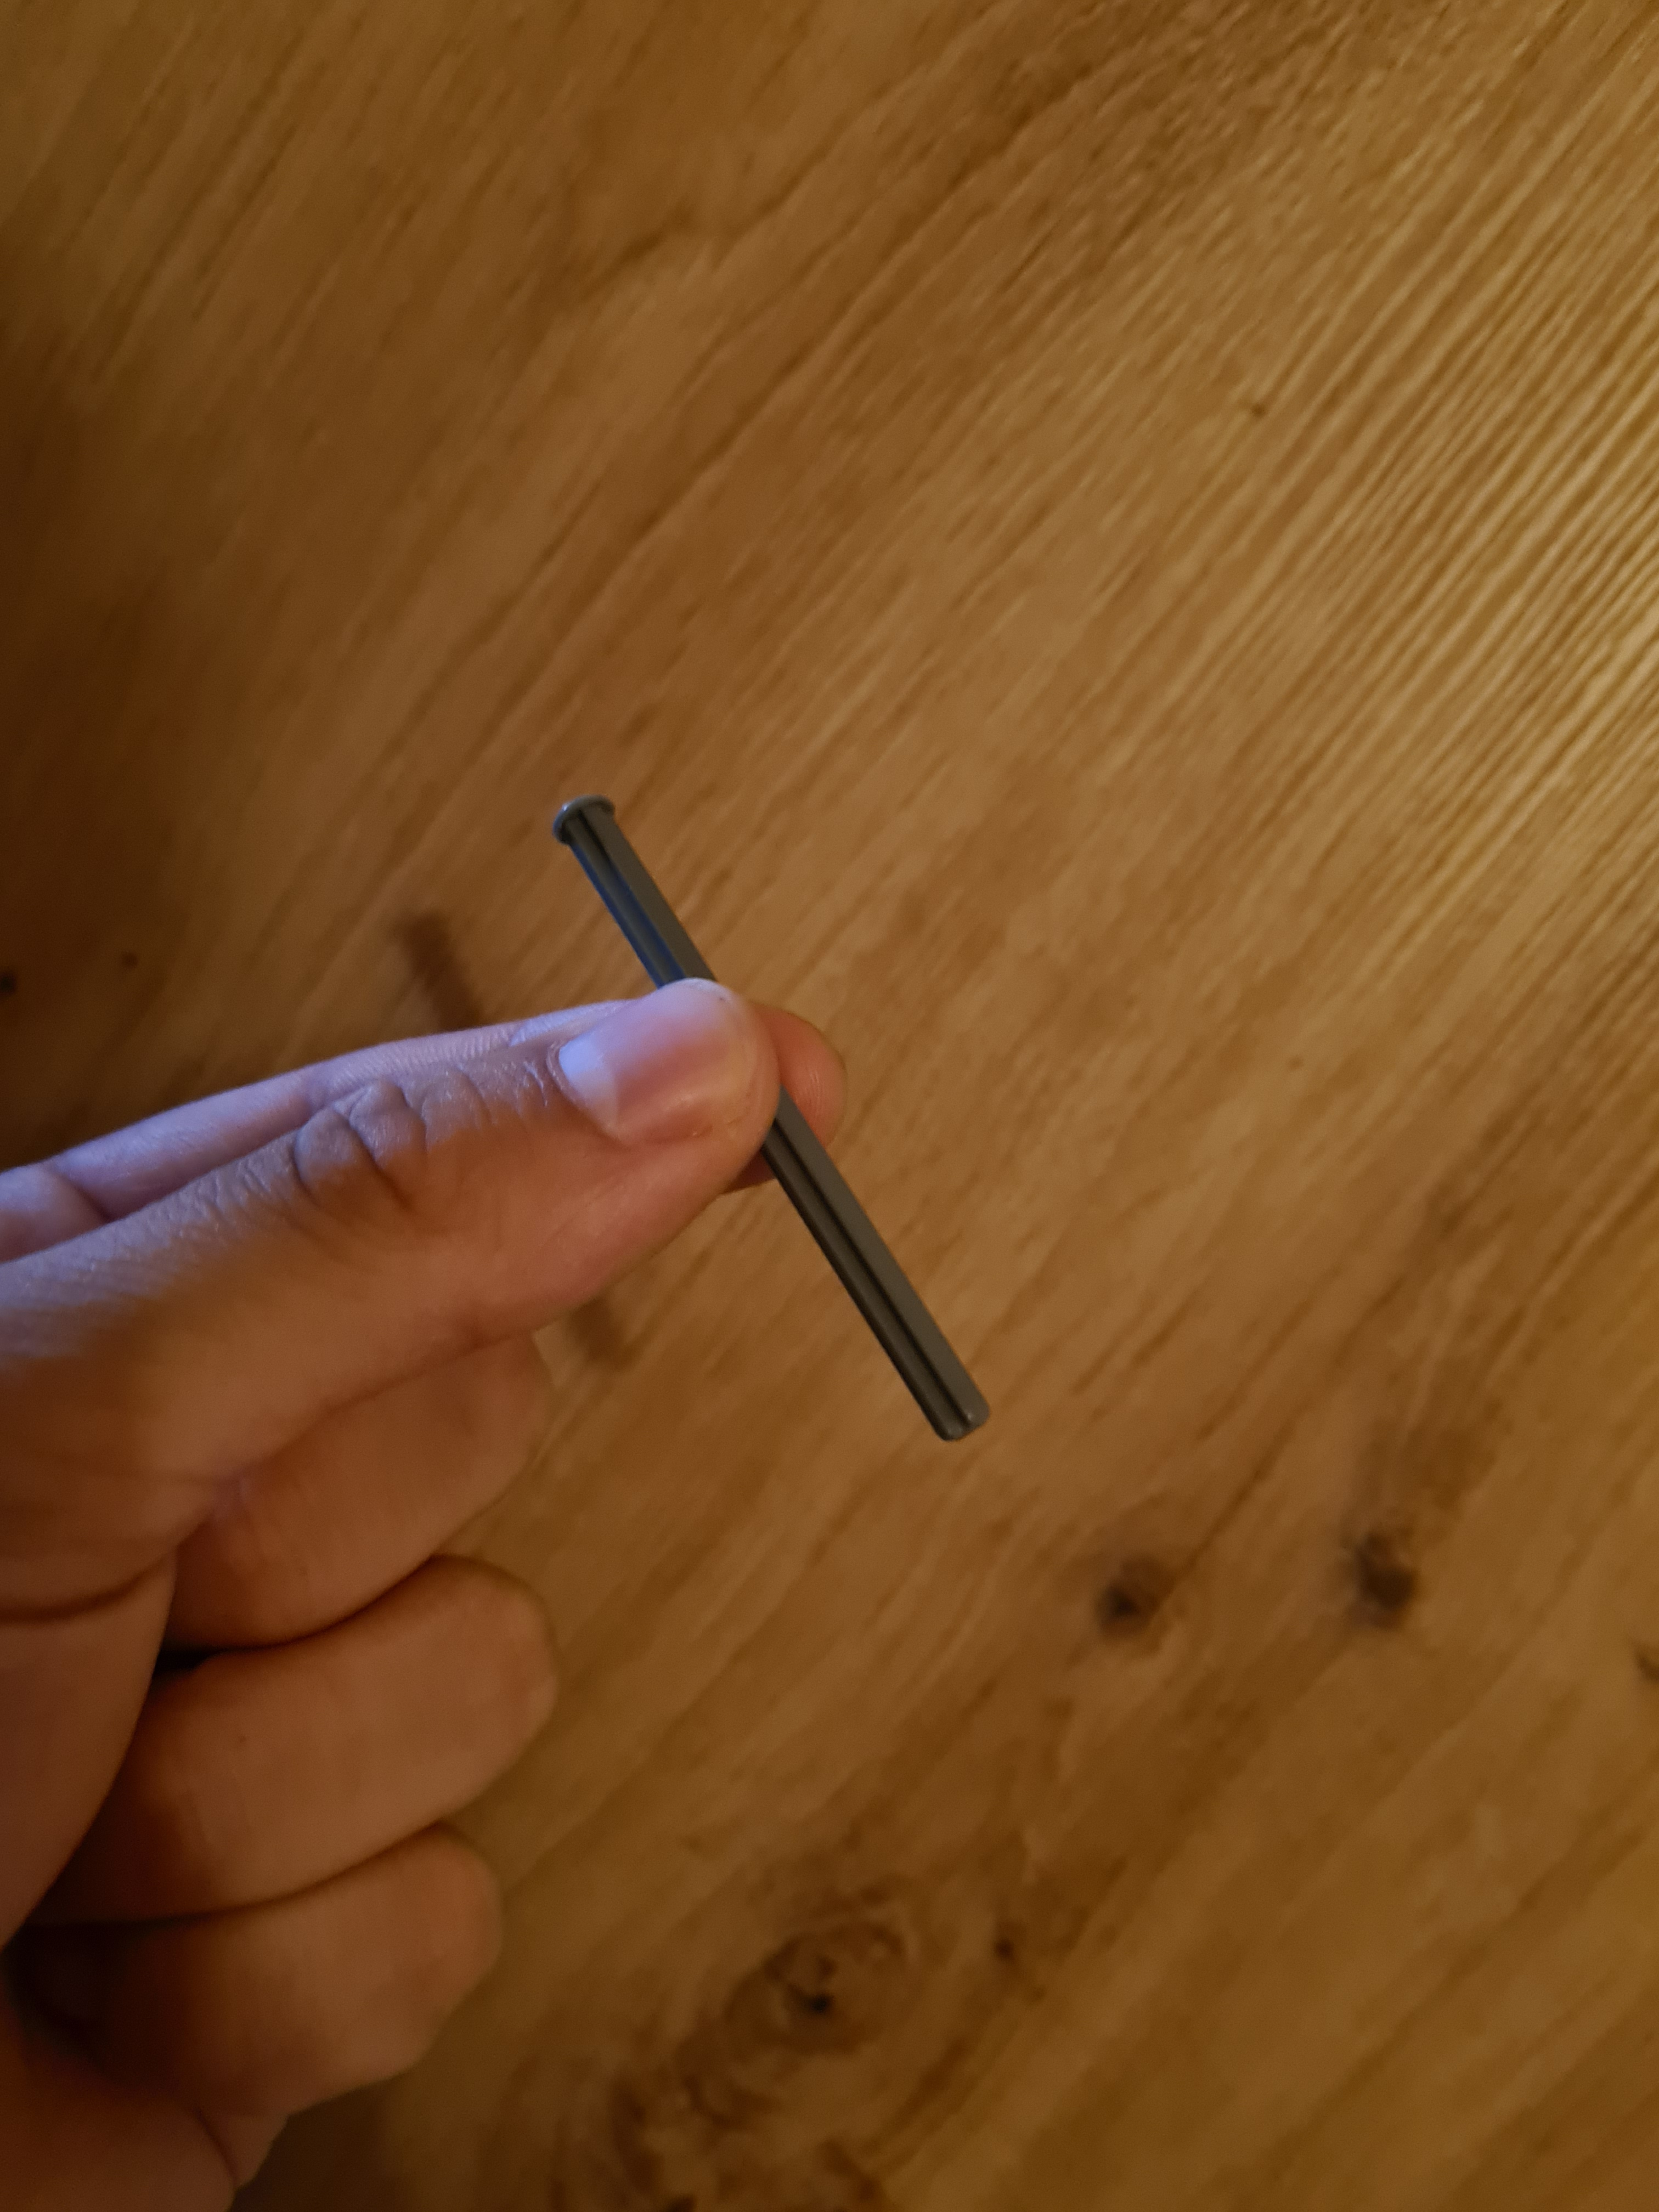Grau_lang: (551, 789, 1002, 1453)
